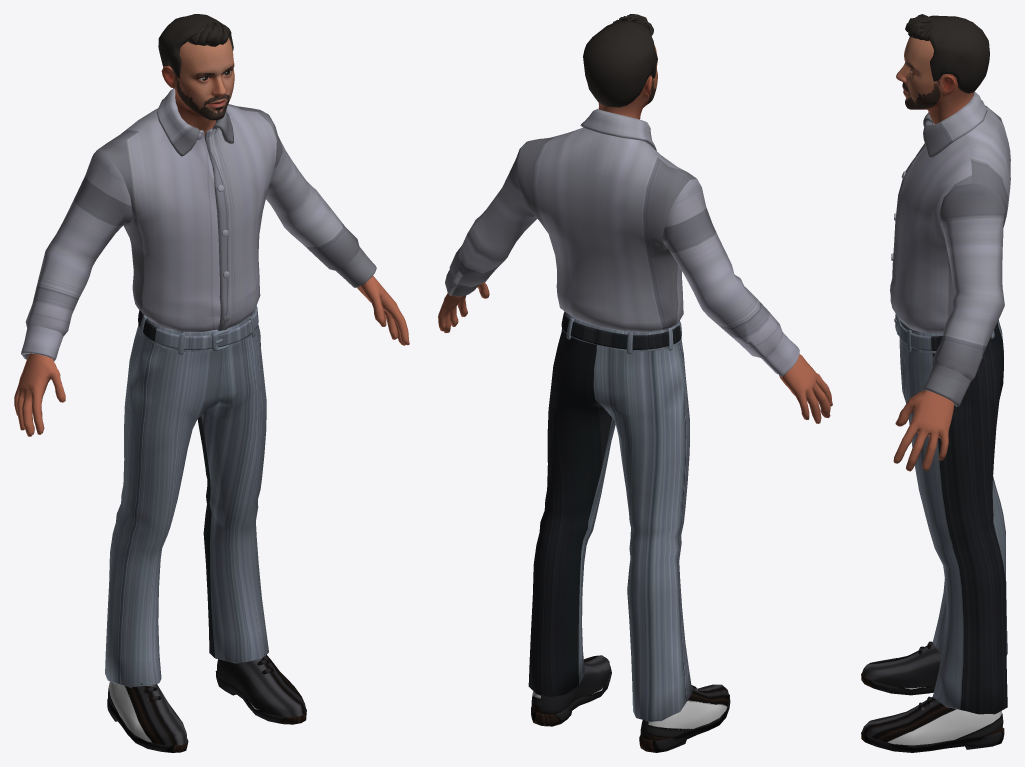
Rendered from modelo.fbx.
The picture shows the model from 3 angles, left to right: view 1: azimuth 30°, elevation 25°; view 2: azimuth 150°, elevation 25°; view 3: azimuth 270°, elevation 25°; orthographic projection.
Visible parts, largest first — view 1: Wolf3D_Outfit_Top, Wolf3D_Outfit_Bottom, Wolf3D_Outfit_Footwear, Wolf3D_Head, Wolf3D_Body, Wolf3D_Hair; view 2: Wolf3D_Outfit_Bottom, Wolf3D_Outfit_Top, Wolf3D_Outfit_Footwear, Wolf3D_Hair, Wolf3D_Body, Wolf3D_Head; view 3: Wolf3D_Outfit_Top, Wolf3D_Outfit_Bottom, Wolf3D_Outfit_Footwear, Wolf3D_Hair, Wolf3D_Head, Wolf3D_Body.
Boxes of the visible parts, <box> form: Wolf3D_Outfit_Top: <box>21,88,376,361</box>; Wolf3D_Outfit_Bottom: <box>105,306,268,687</box>; Wolf3D_Outfit_Footwear: <box>107,654,306,752</box>; Wolf3D_Head: <box>161,37,234,135</box>; Wolf3D_Body: <box>14,276,409,436</box>; Wolf3D_Hair: <box>158,14,233,78</box>; Wolf3D_Outfit_Bottom: <box>528,311,692,722</box>; Wolf3D_Outfit_Top: <box>445,109,799,376</box>; Wolf3D_Outfit_Footwear: <box>531,655,730,752</box>; Wolf3D_Hair: <box>583,14,657,107</box>; Wolf3D_Body: <box>438,282,832,423</box>; Wolf3D_Head: <box>598,45,657,119</box>; Wolf3D_Outfit_Top: <box>890,91,1010,406</box>; Wolf3D_Outfit_Bottom: <box>894,314,1007,714</box>; Wolf3D_Outfit_Footwear: <box>861,641,1004,752</box>; Wolf3D_Hair: <box>905,14,989,93</box>; Wolf3D_Head: <box>896,37,974,124</box>; Wolf3D_Body: <box>893,390,954,471</box>.
Bounding box in the file's own units: 1.06 × 1.85 × 0.3595.
Materials: 8 (8 with a texture image).
